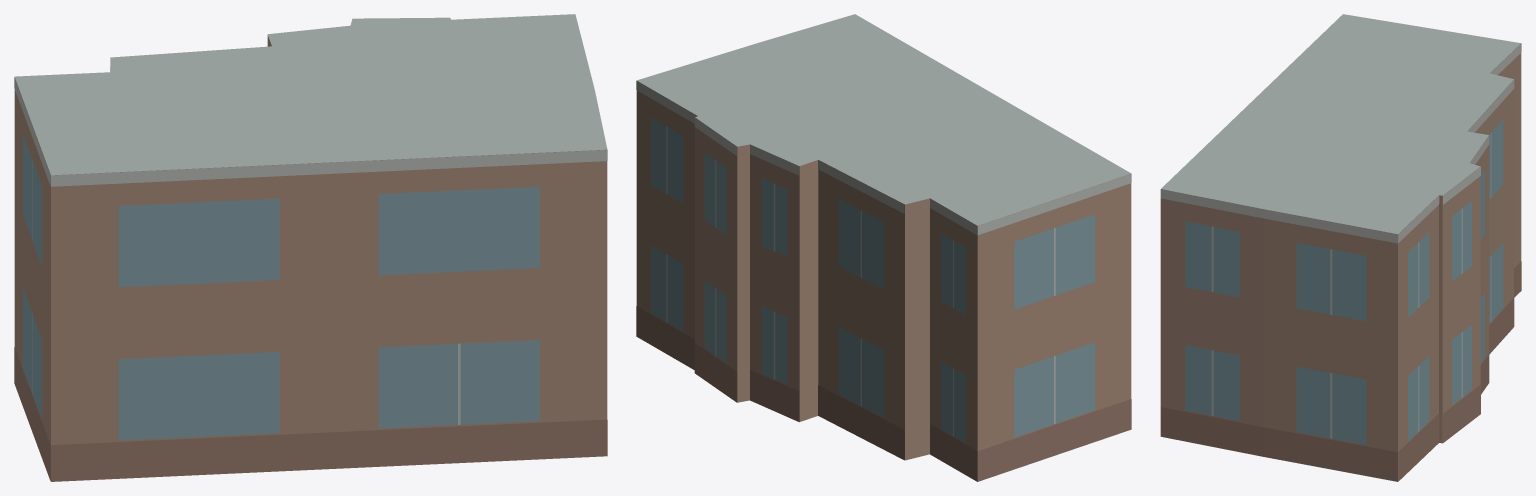
Rendered from survey-upis-32609814.glb.
The picture shows the model from 3 angles, left to right: view 1: azimuth 30°, elevation 25°; view 2: azimuth 150°, elevation 25°; view 3: azimuth 270°, elevation 25°; orthographic projection. The views are drawn at different scales.
Parts seen in each view (by area): view 1: survey-upis-32609814.tmp; view 2: survey-upis-32609814.tmp; view 3: survey-upis-32609814.tmp.
Part boxes in pixels (x1,y1,x2,y2): survey-upis-32609814.tmp: [14, 14, 607, 481]; survey-upis-32609814.tmp: [636, 14, 1131, 481]; survey-upis-32609814.tmp: [1160, 14, 1521, 481].
Bounding box in the file's own units: 12.41 × 6.5 × 8.59.
